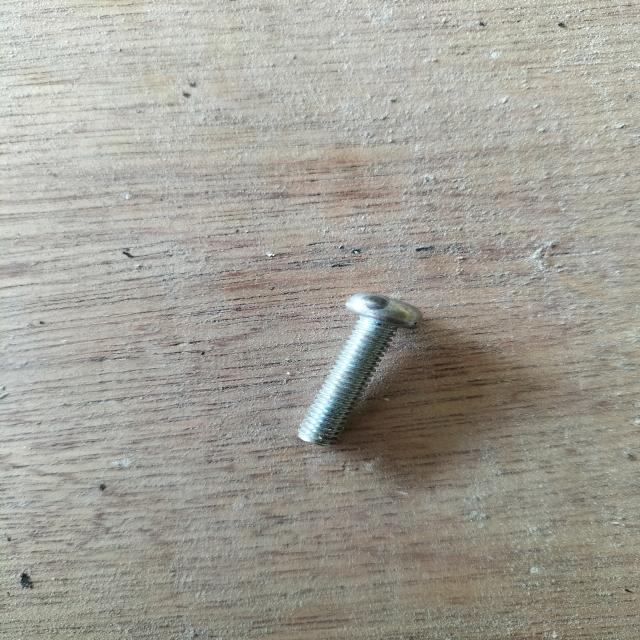bolt: (298, 292, 425, 446)
